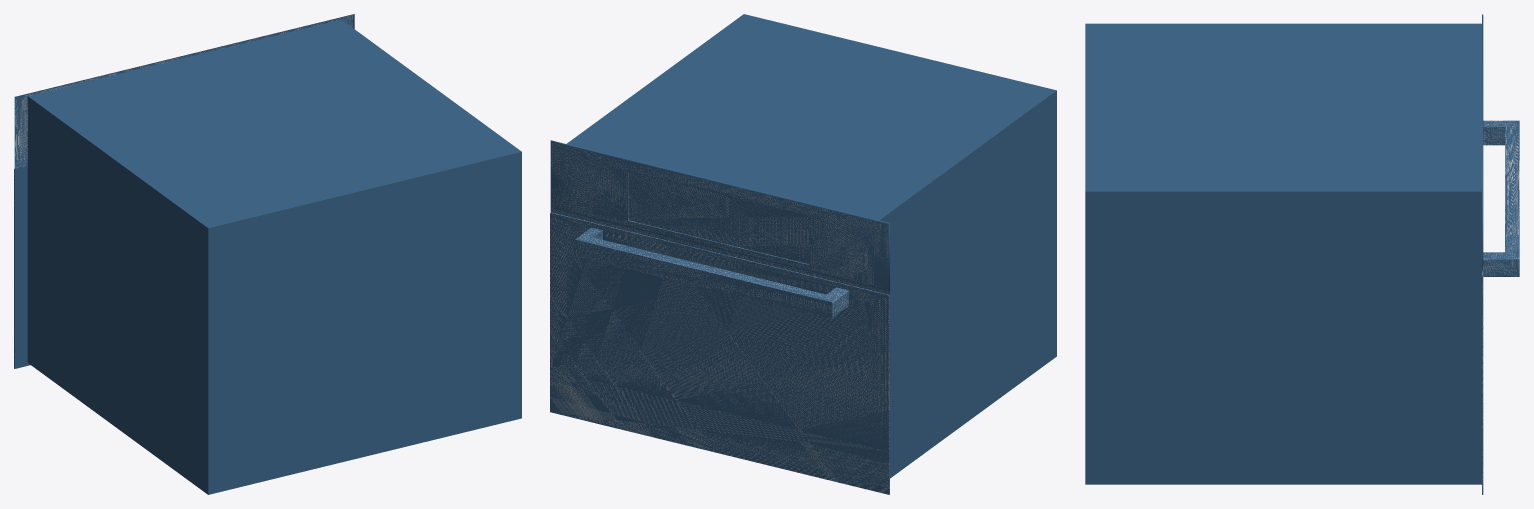
3 renders of one model, left to right at view 1: azimuth 30°, elevation 25°; view 2: azimuth 150°, elevation 25°; view 3: azimuth 270°, elevation 25°, orthographic. The views are drawn at different scales.
Visible parts, largest first — view 1: mesh1_mesh1-geometry, mesh4_mesh4-geometry; view 2: mesh1_mesh1-geometry, mesh4_mesh4-geometry; view 3: mesh1_mesh1-geometry, mesh4_mesh4-geometry.
Part boxes in pixels (box(x1,y1,x2,y2)): mesh1_mesh1-geometry: box(27, 19, 521, 494); mesh4_mesh4-geometry: box(14, 14, 354, 368); mesh1_mesh1-geometry: box(567, 14, 1056, 478); mesh4_mesh4-geometry: box(550, 140, 889, 494); mesh1_mesh1-geometry: box(1085, 23, 1481, 484); mesh4_mesh4-geometry: box(1482, 14, 1519, 494).
Bounding box in the file's own units: 0.6204 × 0.4744 × 0.6246.
